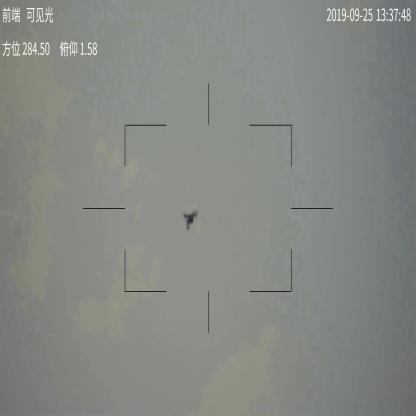uav: (182, 210, 200, 233)
